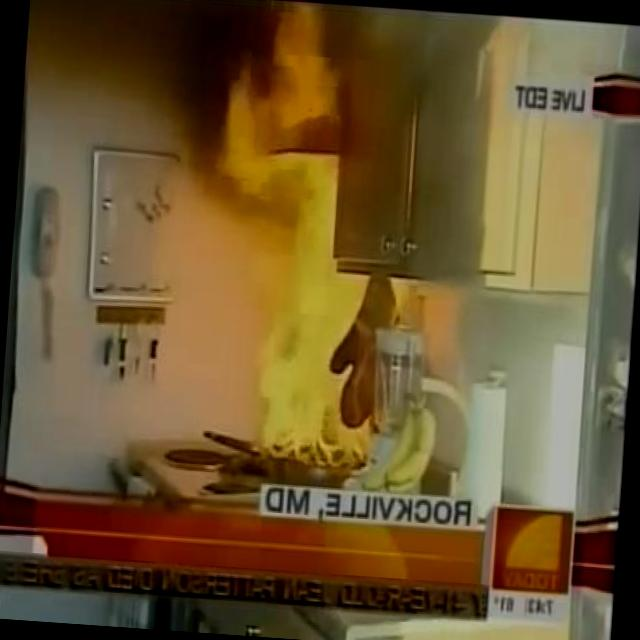fire: (232, 1, 358, 452)
